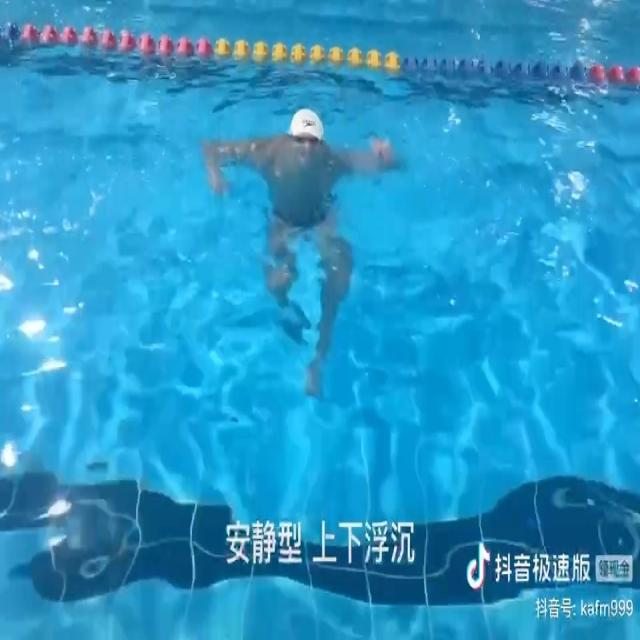Drowning: (199, 107, 405, 396)
